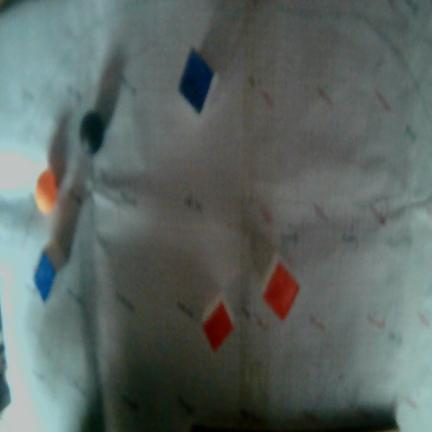circle_blue: (80, 111, 105, 154)
circle_orange: (35, 168, 58, 213)
rectangle_blue: (32, 246, 56, 304)
rectangle_orange: (202, 300, 233, 354)
square_blue: (179, 49, 213, 113)
square_orange: (263, 262, 299, 319)
